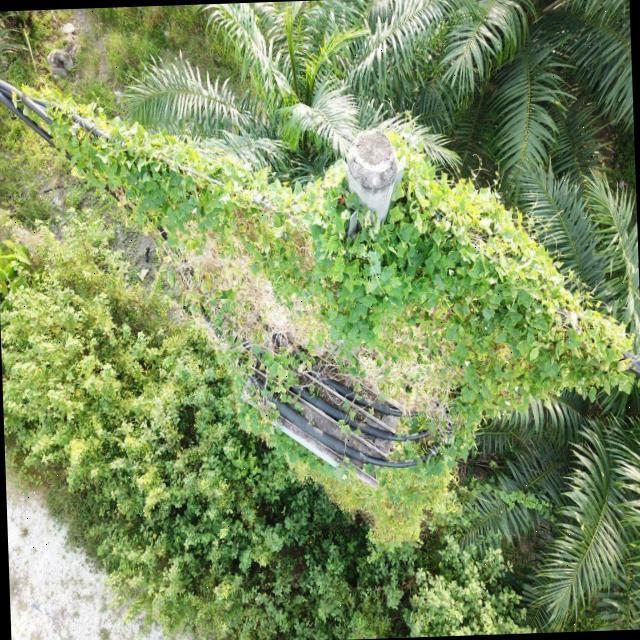critical vegetation: (5, 55, 640, 473)
